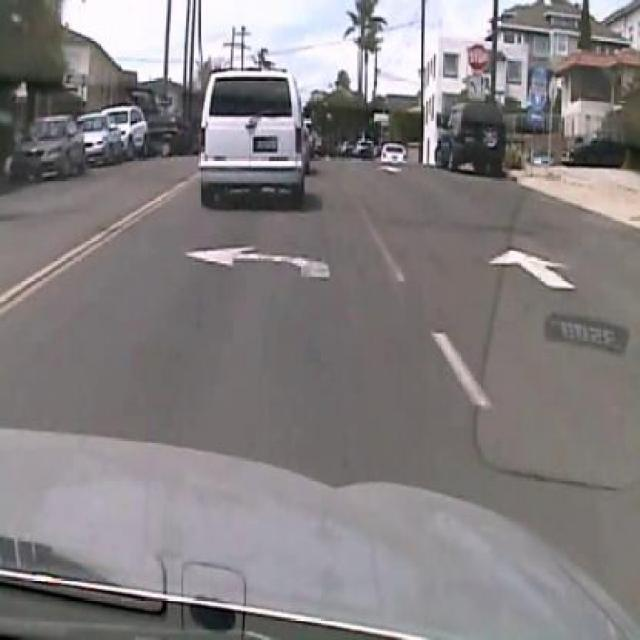stop: (468, 40, 490, 71)
